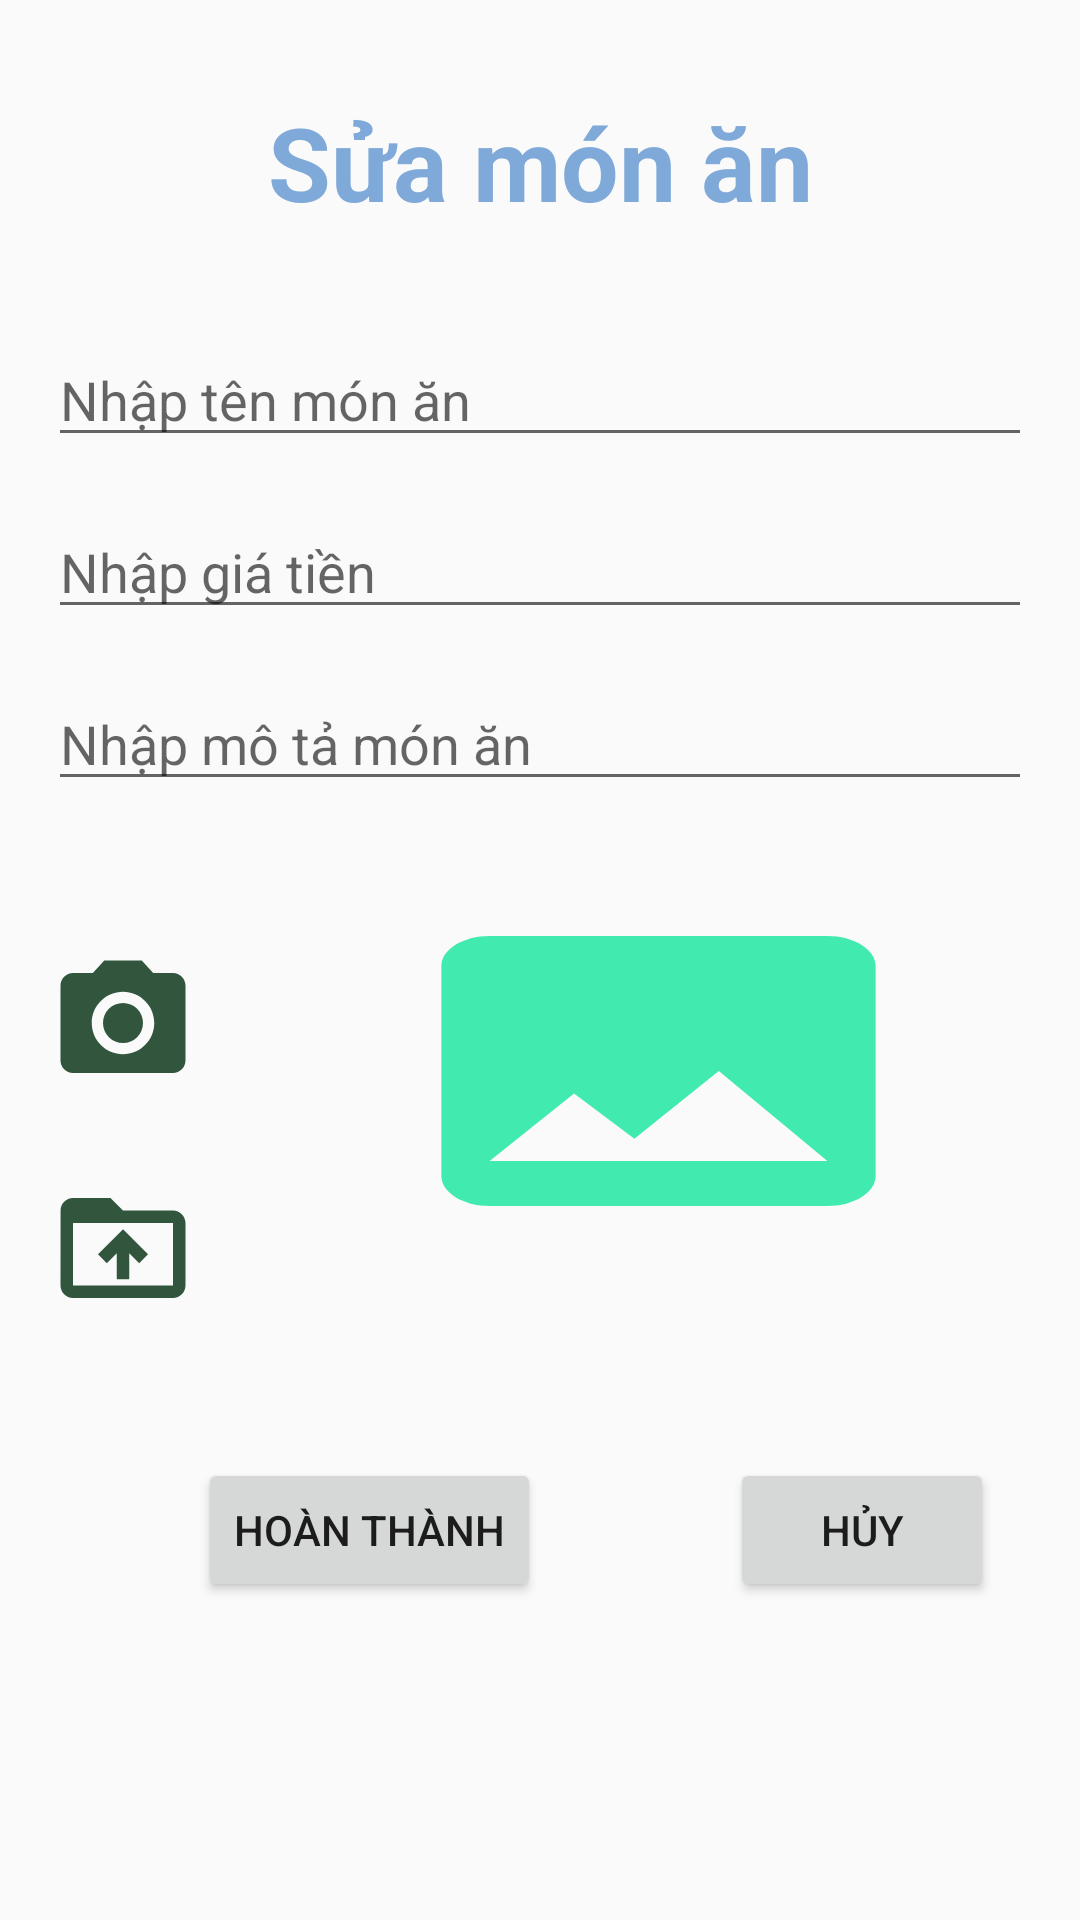

Named icons in this screenshot (1080*1920) and their bounding boxes, rect(x1, y1, x2, y2):
folder upload: rect(60, 1198, 186, 1298)
photo camera: rect(60, 960, 186, 1073)
